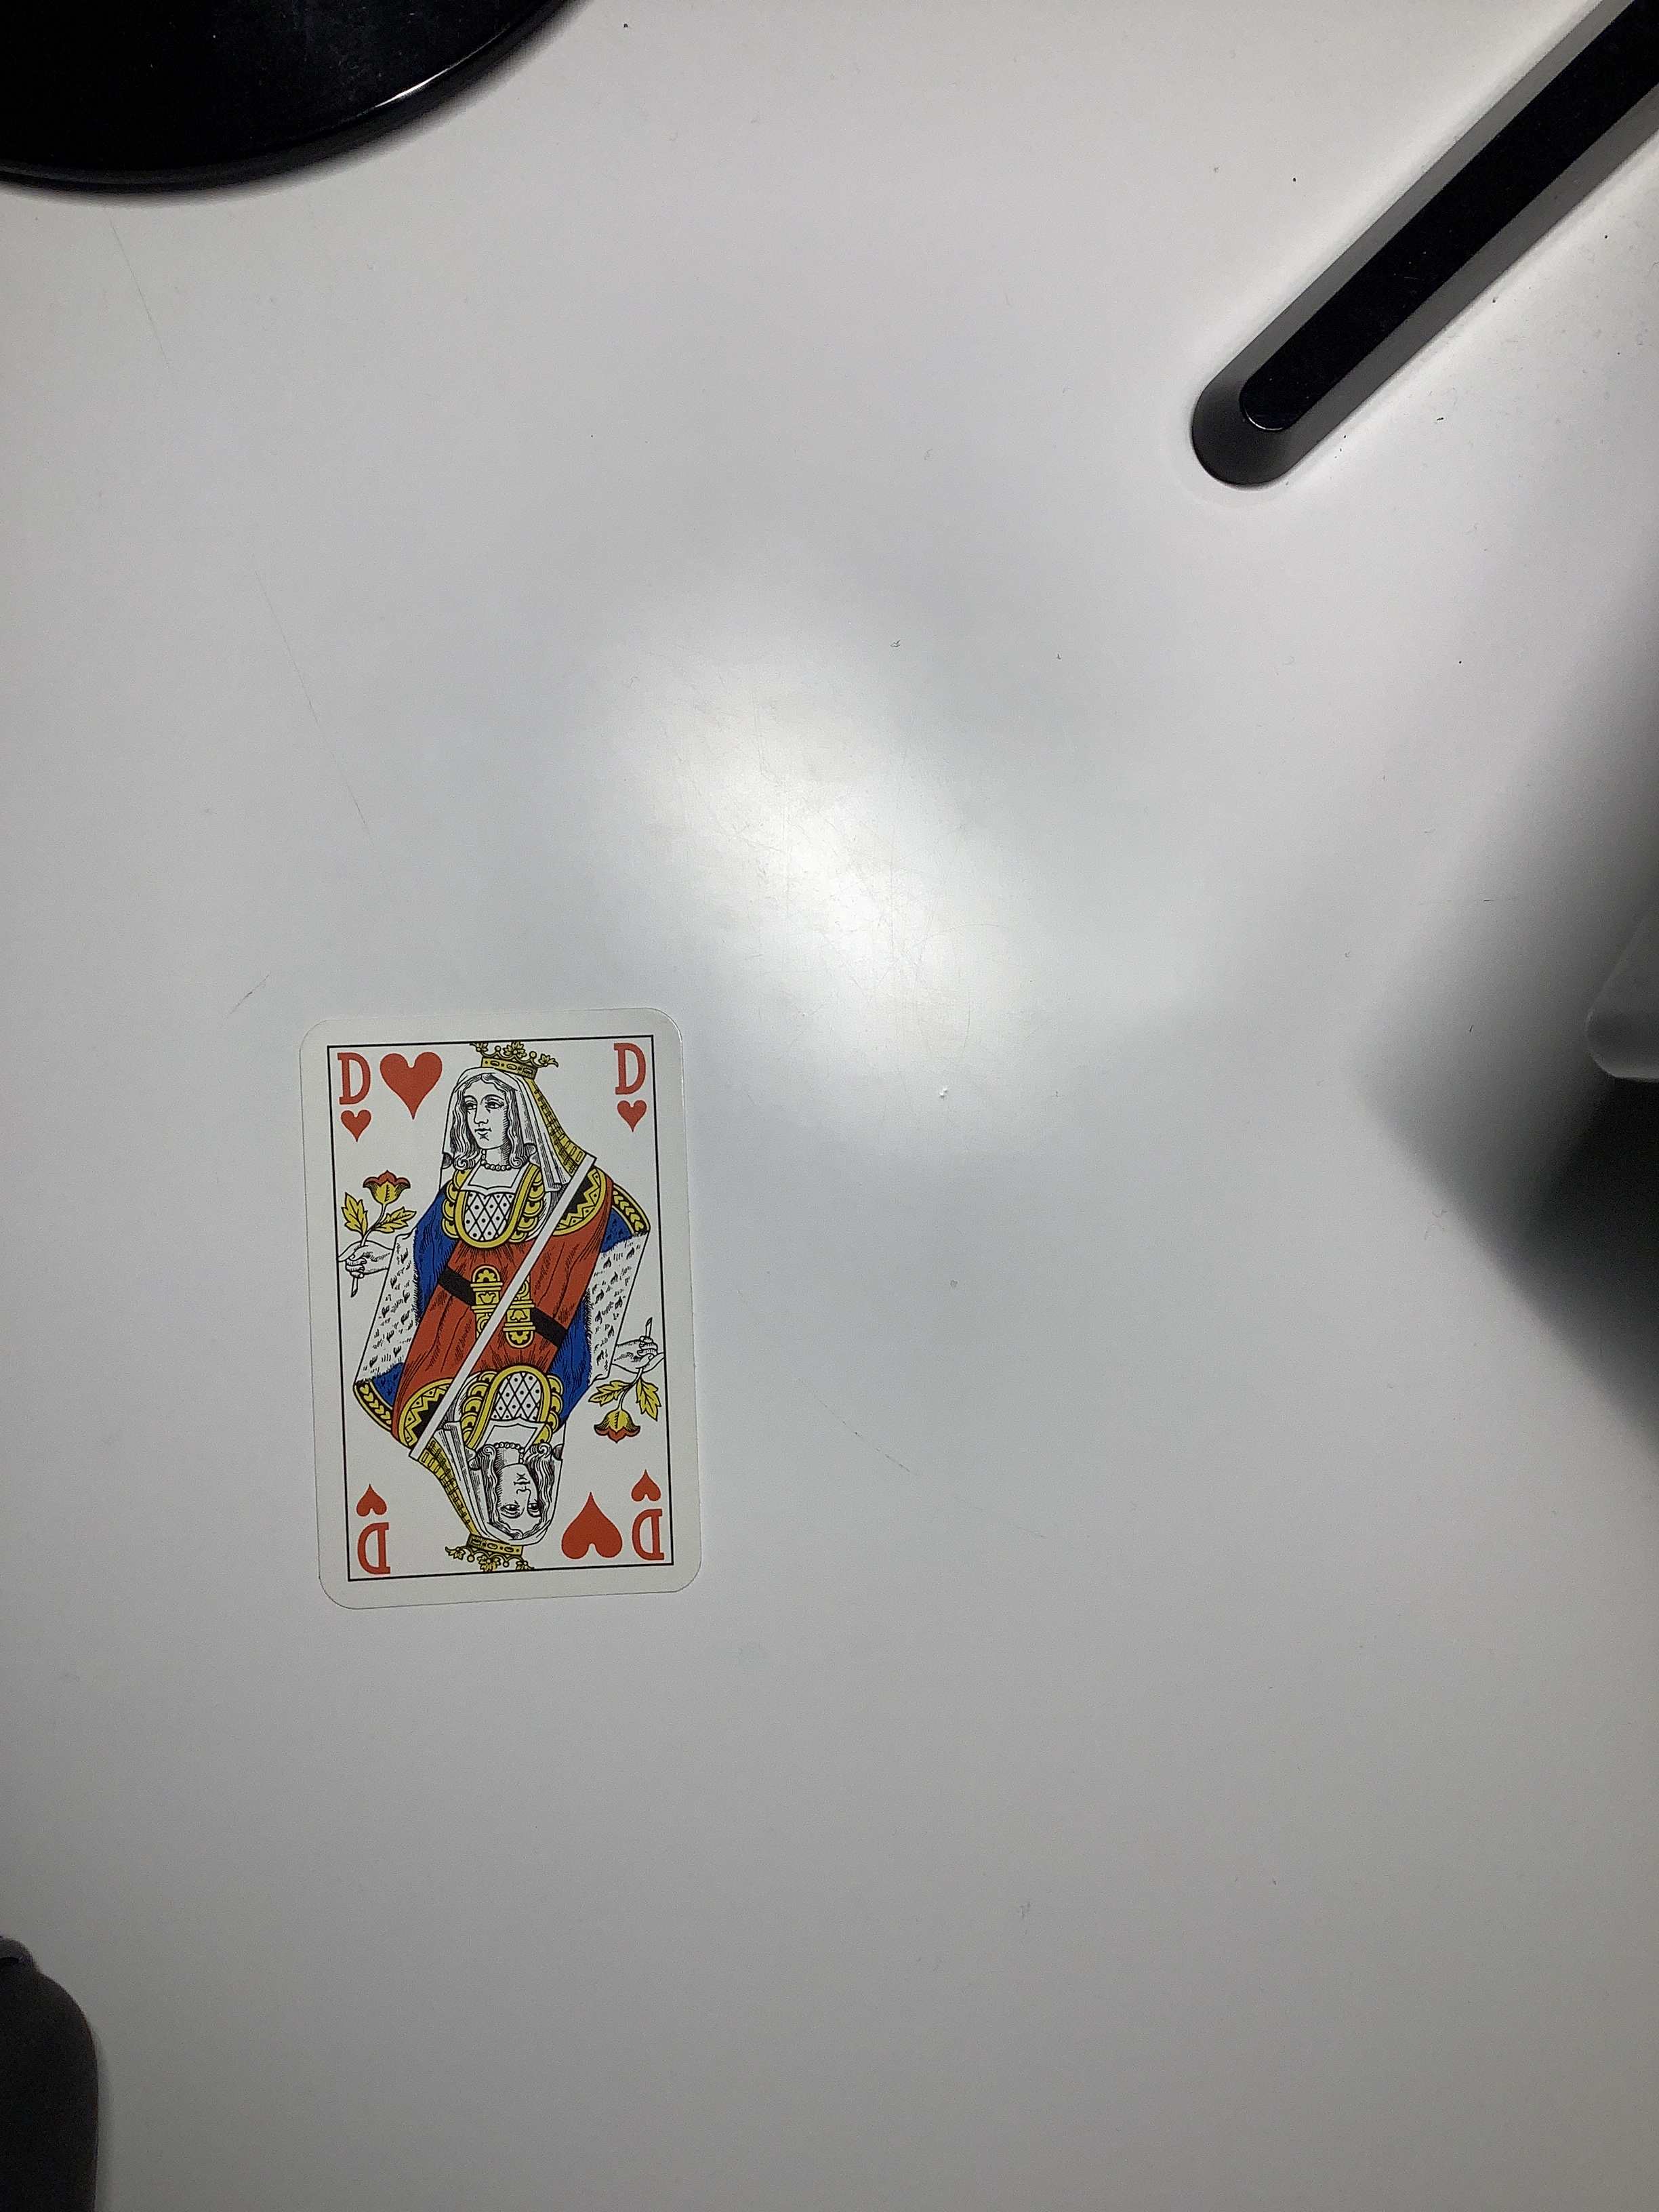♥ Q: (274, 1003, 704, 1632)
